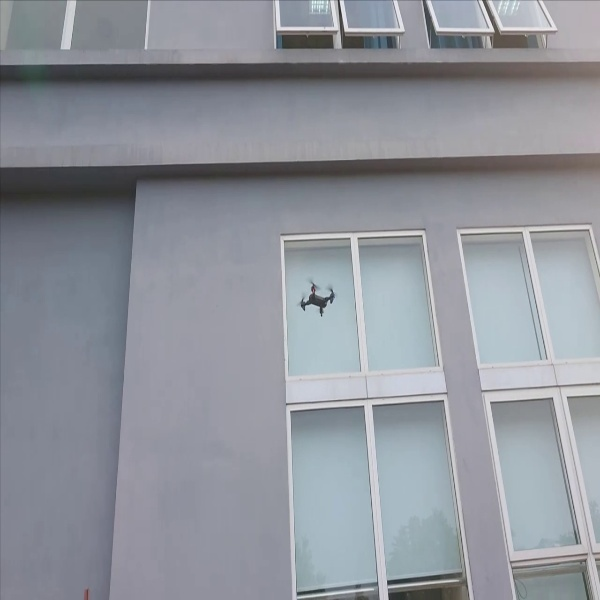drone: (291, 272, 341, 323)
